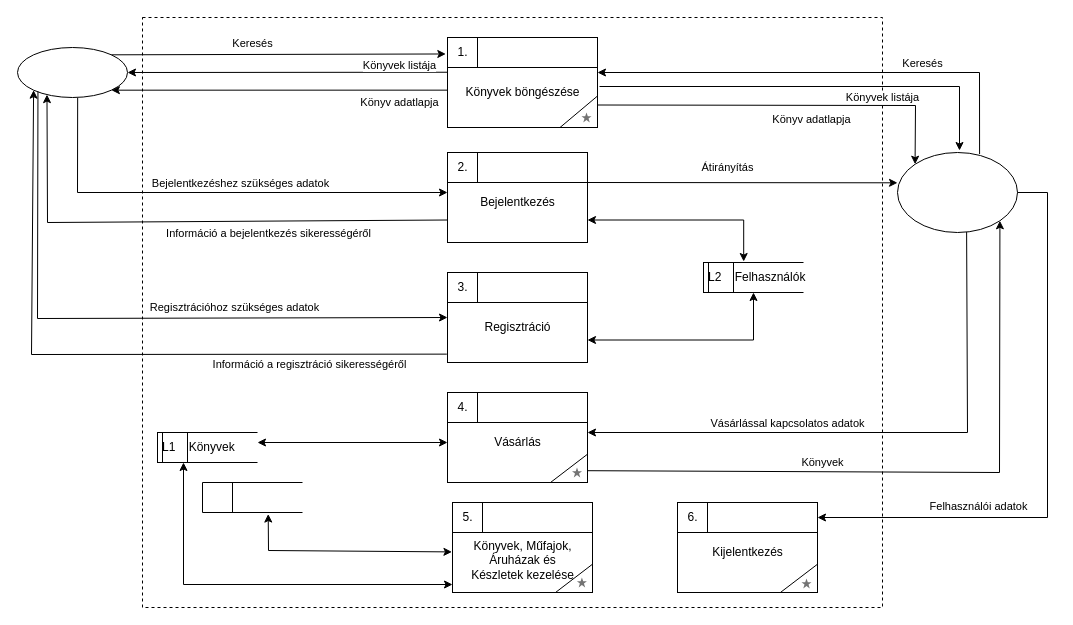
Some shapes in this 1073 by 625 pixel diagram are drawn without their labels. Each missing label, with the centre of its shape:
Bejelentkezett felhasználó: the point at 957,192
L3 Áruházak: the point at 252,497
Látogató: the point at 72,72
